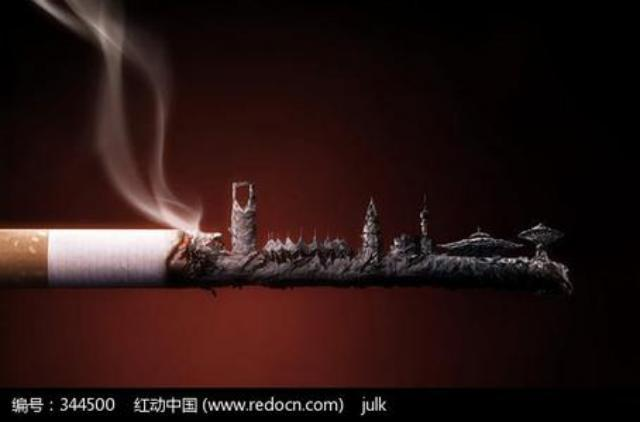Smoking: (4, 221, 570, 299)
